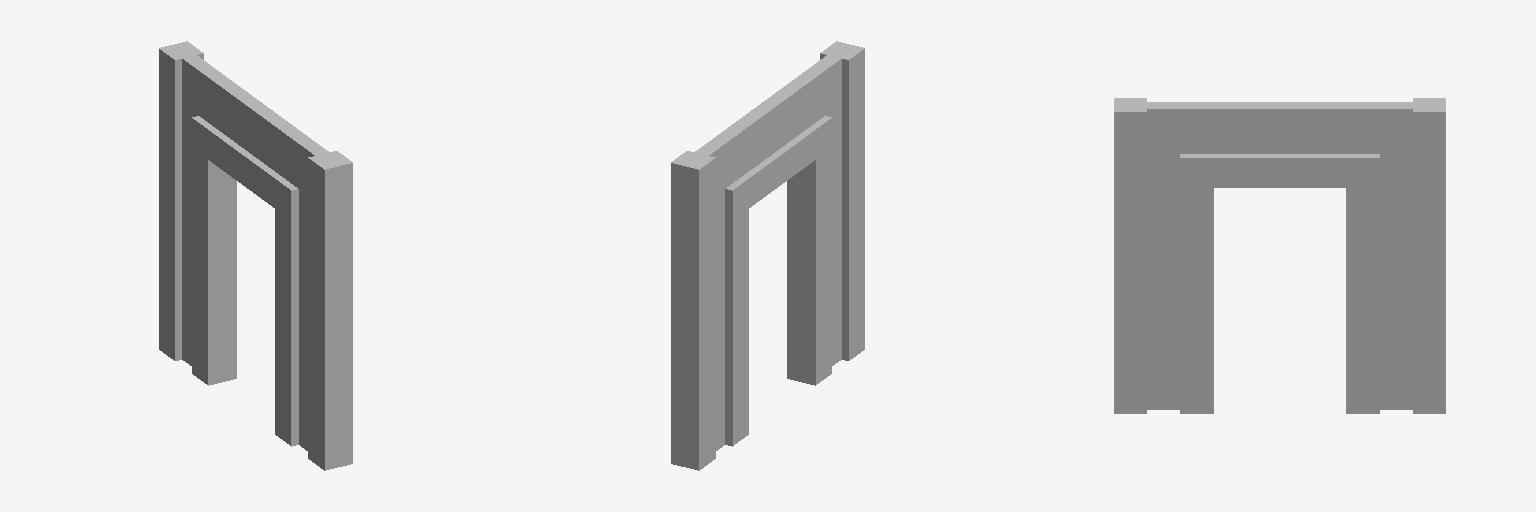
The model's file is wallDoorwaySquare.obj.
3 views of the same model, side by side, from view 1: azimuth 30°, elevation 25°; view 2: azimuth 150°, elevation 25°; view 3: azimuth 270°, elevation 25° (orthographic).
Visible parts, largest first — view 1: wallDoorwaySquare; view 2: wallDoorwaySquare; view 3: wallDoorwaySquare.
Boxes of the visible parts, <box> form: wallDoorwaySquare: <box>159,41,352,470</box>; wallDoorwaySquare: <box>671,41,864,470</box>; wallDoorwaySquare: <box>1114,98,1445,413</box>.
Bounding box in the file's own units: 0.1 × 1 × 1.